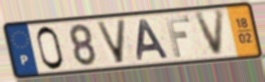0: (35, 25, 66, 71)
8: (67, 23, 98, 68)
A: (136, 18, 171, 62)
F: (164, 14, 192, 59)
V: (193, 8, 227, 58), (94, 18, 129, 65)
